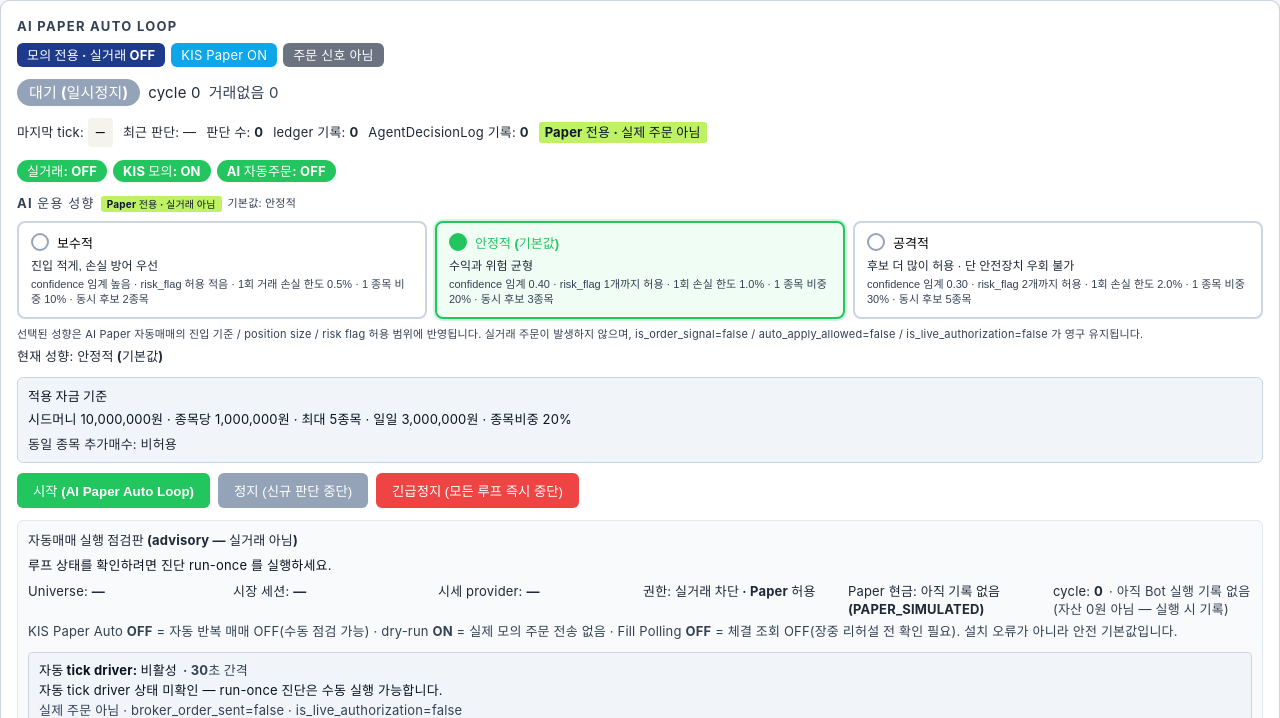
Test case: <AutoPaperLoopCard> › #4-RiskProfileUI risk profile selector › clicking AGGRESSIVE card switches selection + shows safety warning
Click the button with test id "risk-profile-card-AGGRESSIVE" at (1058, 270), box left=853, top=221, right=1263, bottom=319
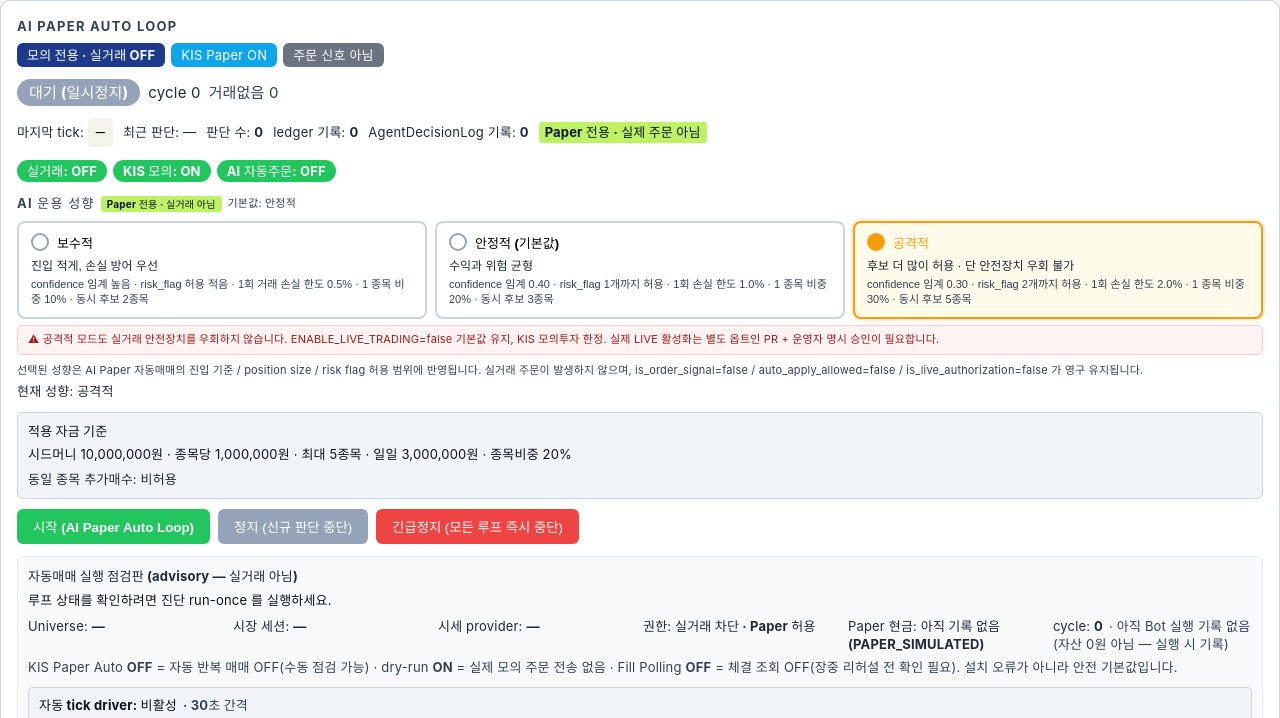
Now the element with test id "risk-profile-aggressive-warning" shows "실거래 안전장치를 우회하지 않습니다", box left=111, top=332, right=284, bottom=346
